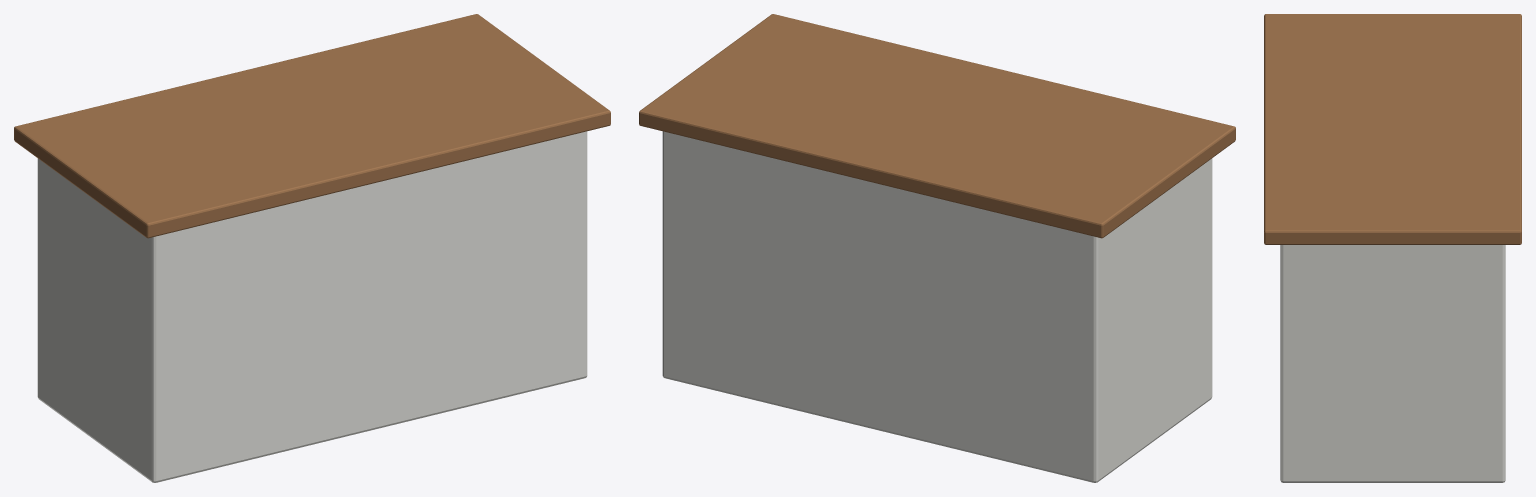
The model's file is display_table.glb.
3 renders of one model, left to right at view 1: azimuth 30°, elevation 25°; view 2: azimuth 150°, elevation 25°; view 3: azimuth 270°, elevation 25°, orthographic. The views are drawn at different scales.
Visible parts, largest first — view 1: DisplayTable; view 2: DisplayTable; view 3: DisplayTable.
Part boxes in pixels (bbox=[...]): DisplayTable: bbox=[14, 14, 610, 482]; DisplayTable: bbox=[639, 14, 1235, 482]; DisplayTable: bbox=[1264, 14, 1521, 482].
Size of the model in its own units: 1.6 by 0.89 by 0.8.
